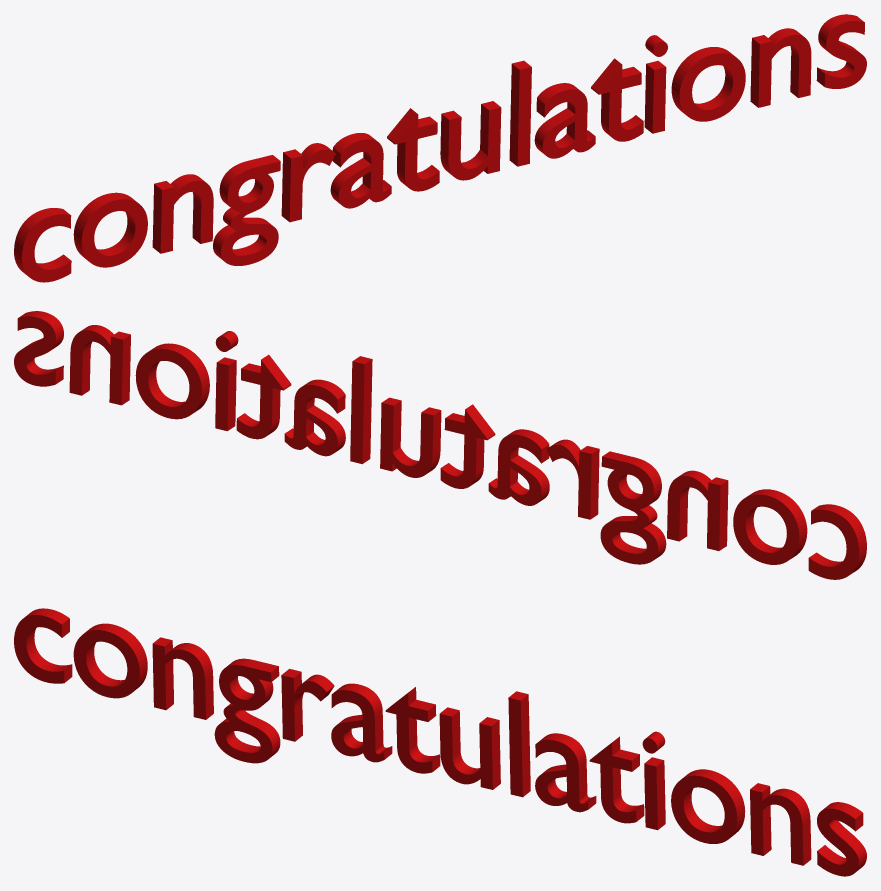
Rendered from congratulations.obj.
3 renders of one model, top to bottom at view 1: azimuth 30°, elevation 25°; view 2: azimuth 150°, elevation 25°; view 3: azimuth 330°, elevation 25°, orthographic.
Parts seen in each view (by area): view 1: テキスト; view 2: テキスト; view 3: テキスト.
Part boxes in pixels (x1,y1,x2,y2): テキスト: (14, 14, 866, 282); テキスト: (14, 311, 866, 579); テキスト: (14, 608, 866, 876).
Size of the model in its own units: 8.02 by 1.2 by 0.1783.
